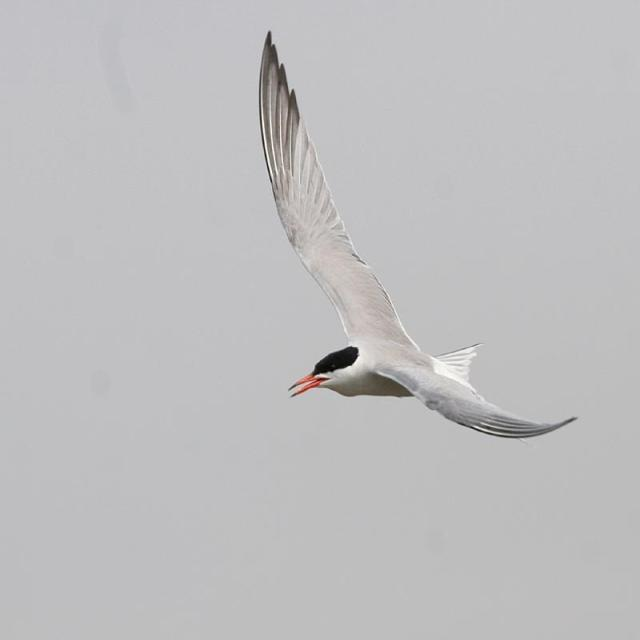bird: (223, 24, 594, 452)
